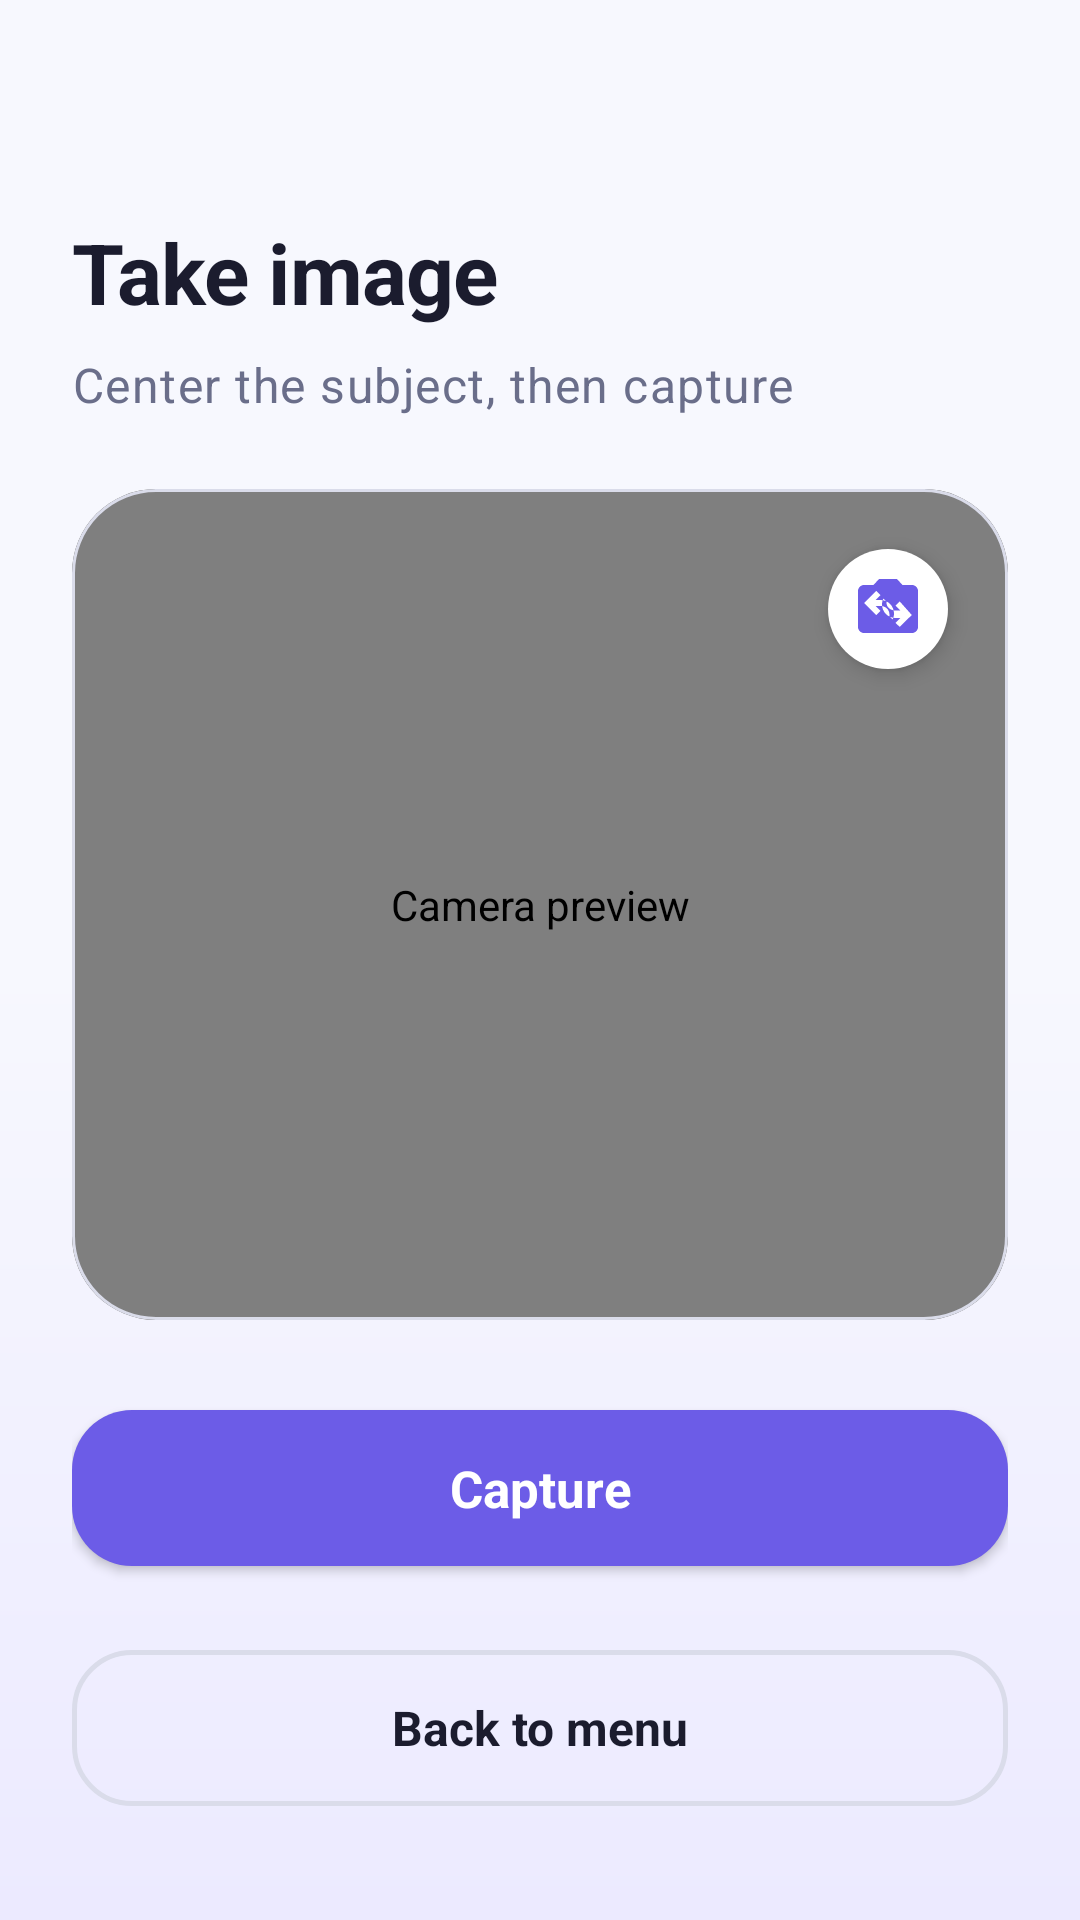

Named icons in this screenshot (1080w x 1920h) and their bounding boxes, BBox(x1, y1, x2, y2):
Flip camera: BBox(828, 549, 948, 669)
